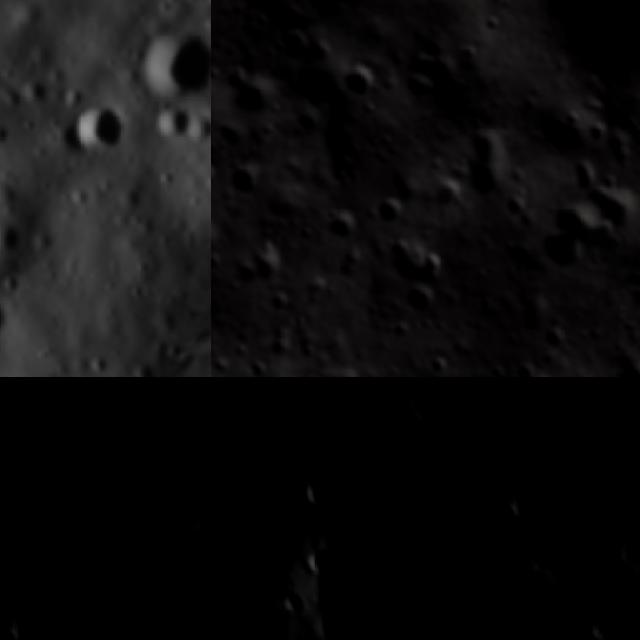crater: (252, 429, 539, 640), (487, 485, 640, 640), (211, 377, 437, 452), (117, 1, 211, 122), (431, 377, 537, 468), (541, 0, 640, 94), (59, 82, 147, 166), (211, 377, 266, 482), (498, 474, 560, 538), (0, 486, 37, 592), (142, 90, 204, 152), (217, 541, 275, 601), (140, 495, 195, 551), (171, 100, 211, 169), (0, 200, 38, 267), (0, 598, 60, 640), (0, 276, 30, 357), (320, 196, 370, 244), (339, 55, 382, 107), (211, 485, 243, 554), (294, 471, 340, 516), (398, 281, 443, 326), (485, 359, 580, 377), (430, 171, 466, 214), (275, 584, 314, 622)
